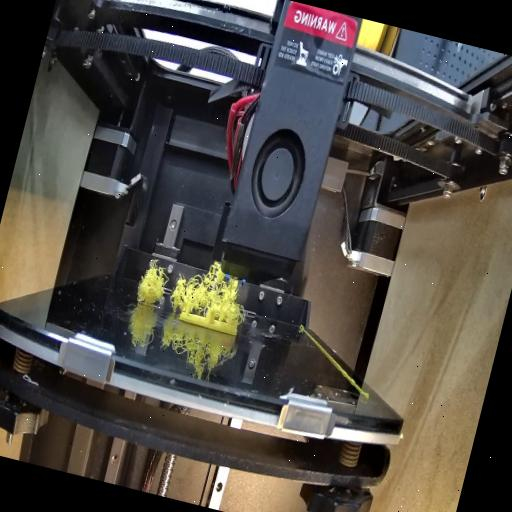spaghetti: (134, 243, 252, 324)
